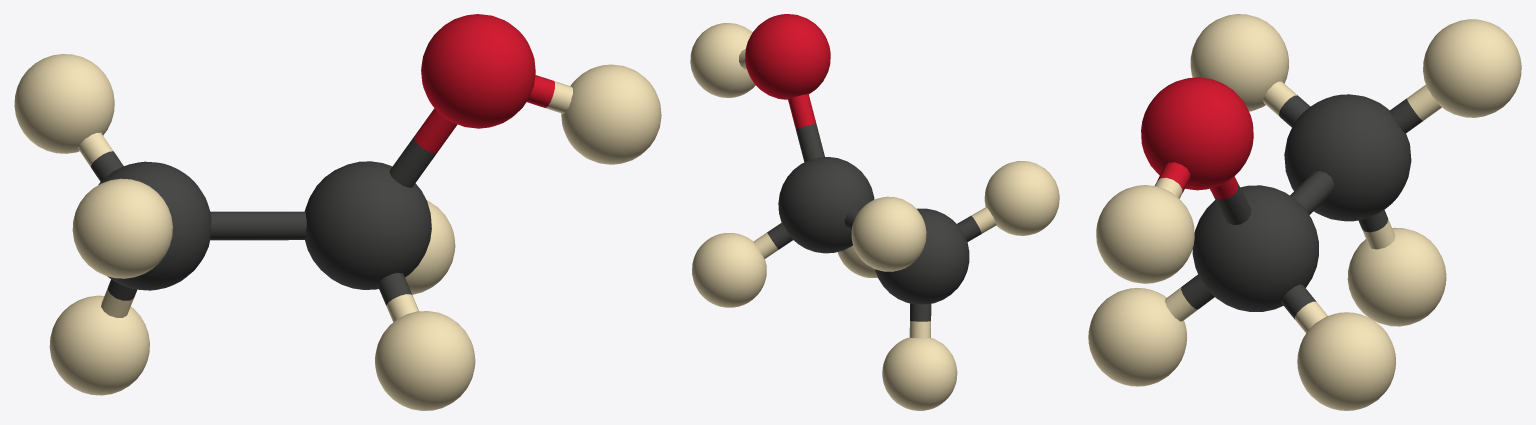
File: yicun.FBX
The picture shows the model from 3 angles, left to right: view 1: azimuth 30°, elevation 25°; view 2: azimuth 150°, elevation 25°; view 3: azimuth 270°, elevation 25°; orthographic projection. The views are drawn at different scales.
Parts seen in each view (by area): view 1: Sphere049; view 2: Sphere049; view 3: Sphere049.
Boxes of the visible parts, bbox=[...] form: Sphere049: bbox=[14, 14, 661, 410]; Sphere049: bbox=[690, 14, 1059, 410]; Sphere049: bbox=[1088, 14, 1521, 410].
Bounding box in the file's own units: 42.48 × 29.09 × 30.65.
